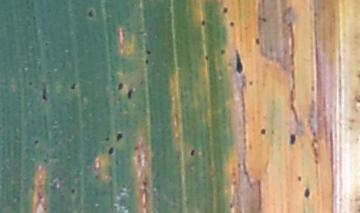tarspot: (40, 85, 50, 104), (84, 6, 96, 20), (66, 81, 78, 92), (114, 131, 124, 143), (288, 133, 297, 146), (303, 186, 311, 200), (106, 144, 115, 156), (126, 88, 134, 101), (103, 134, 112, 145), (116, 80, 124, 92), (188, 147, 197, 157), (144, 47, 153, 57), (131, 143, 140, 152), (222, 6, 230, 16), (219, 46, 226, 57), (255, 37, 262, 47), (247, 78, 254, 87), (204, 53, 211, 62), (228, 21, 235, 29), (259, 16, 267, 23), (70, 187, 77, 195), (33, 140, 40, 147), (261, 128, 267, 136), (201, 19, 207, 27), (29, 80, 35, 88), (296, 176, 303, 182)
